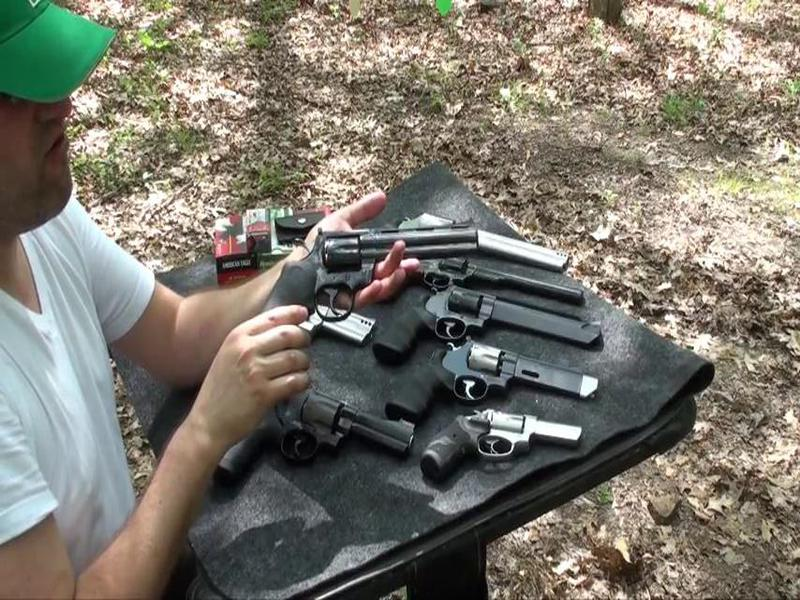Revolver: (259, 197, 458, 370)
